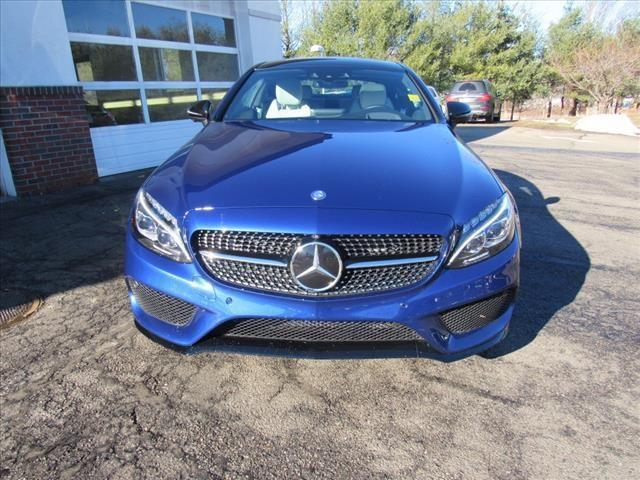C300Coupe: (122, 44, 528, 377)
